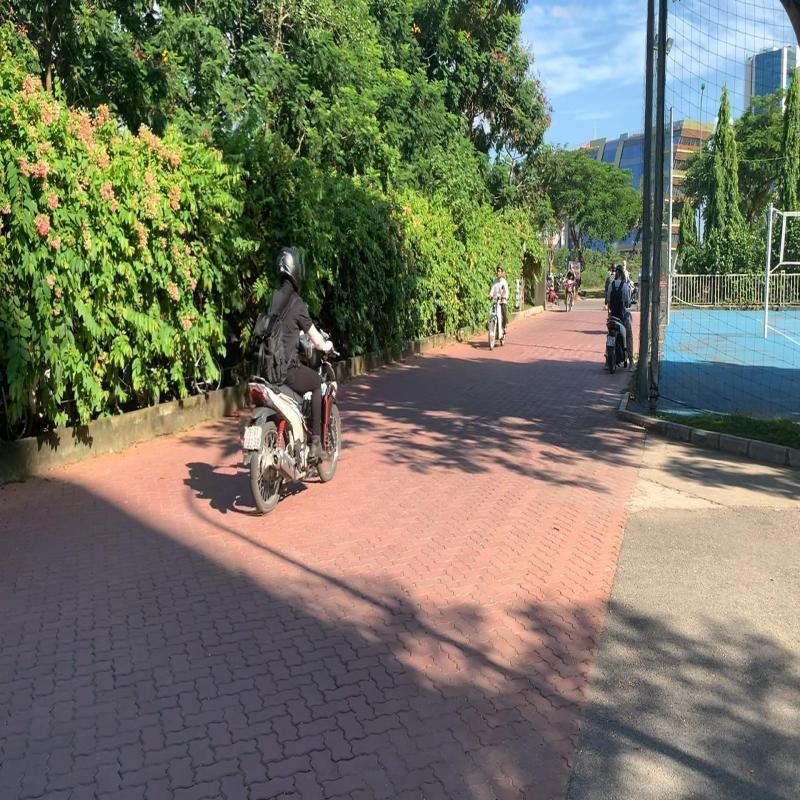helmet: (274, 246, 304, 294)
licenseplate: (240, 420, 266, 454)
motorcyclist: (238, 242, 349, 518)
